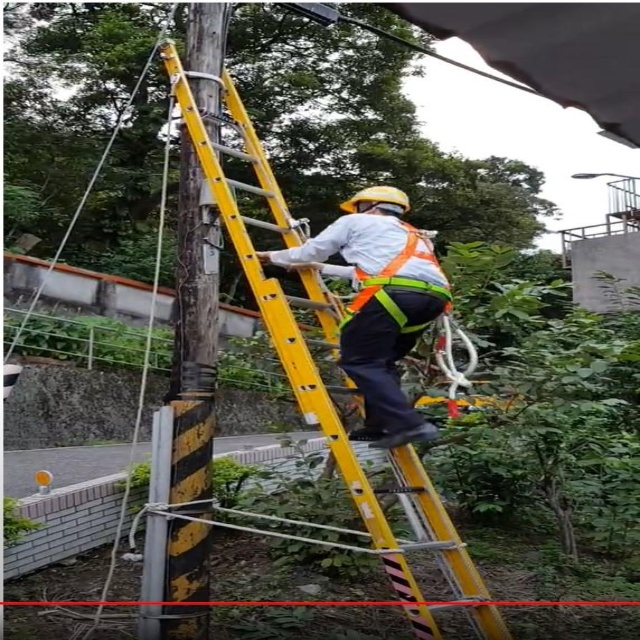Arnes_seguridad: (329, 215, 455, 339)
